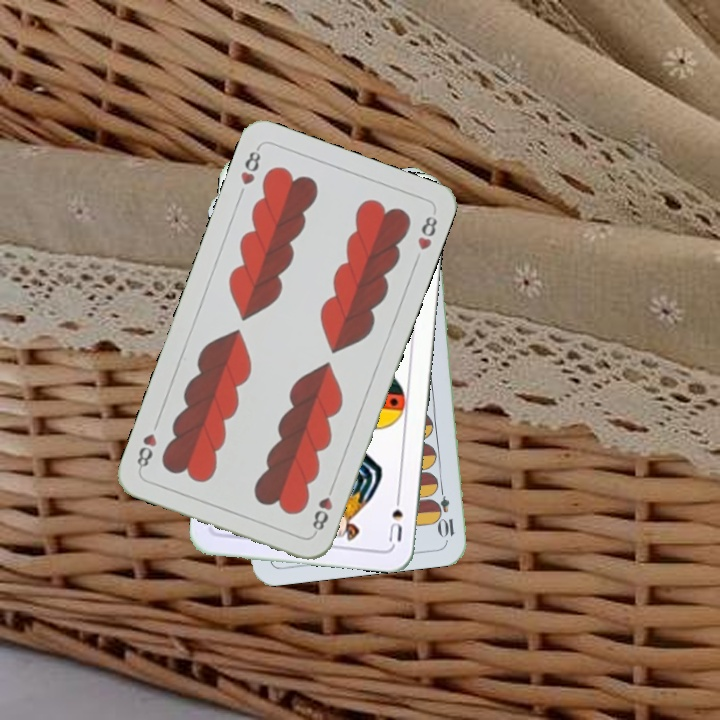E10: (434, 481, 457, 540)
H8: (308, 480, 337, 537), (236, 143, 264, 188)
SU: (384, 487, 405, 544)
